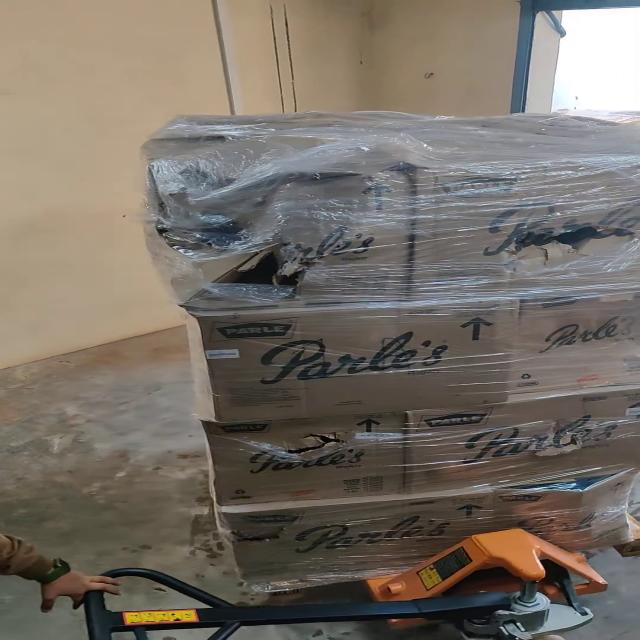leakage: (459, 202, 640, 277)
squeeze: (121, 137, 418, 305), (178, 237, 364, 320)
